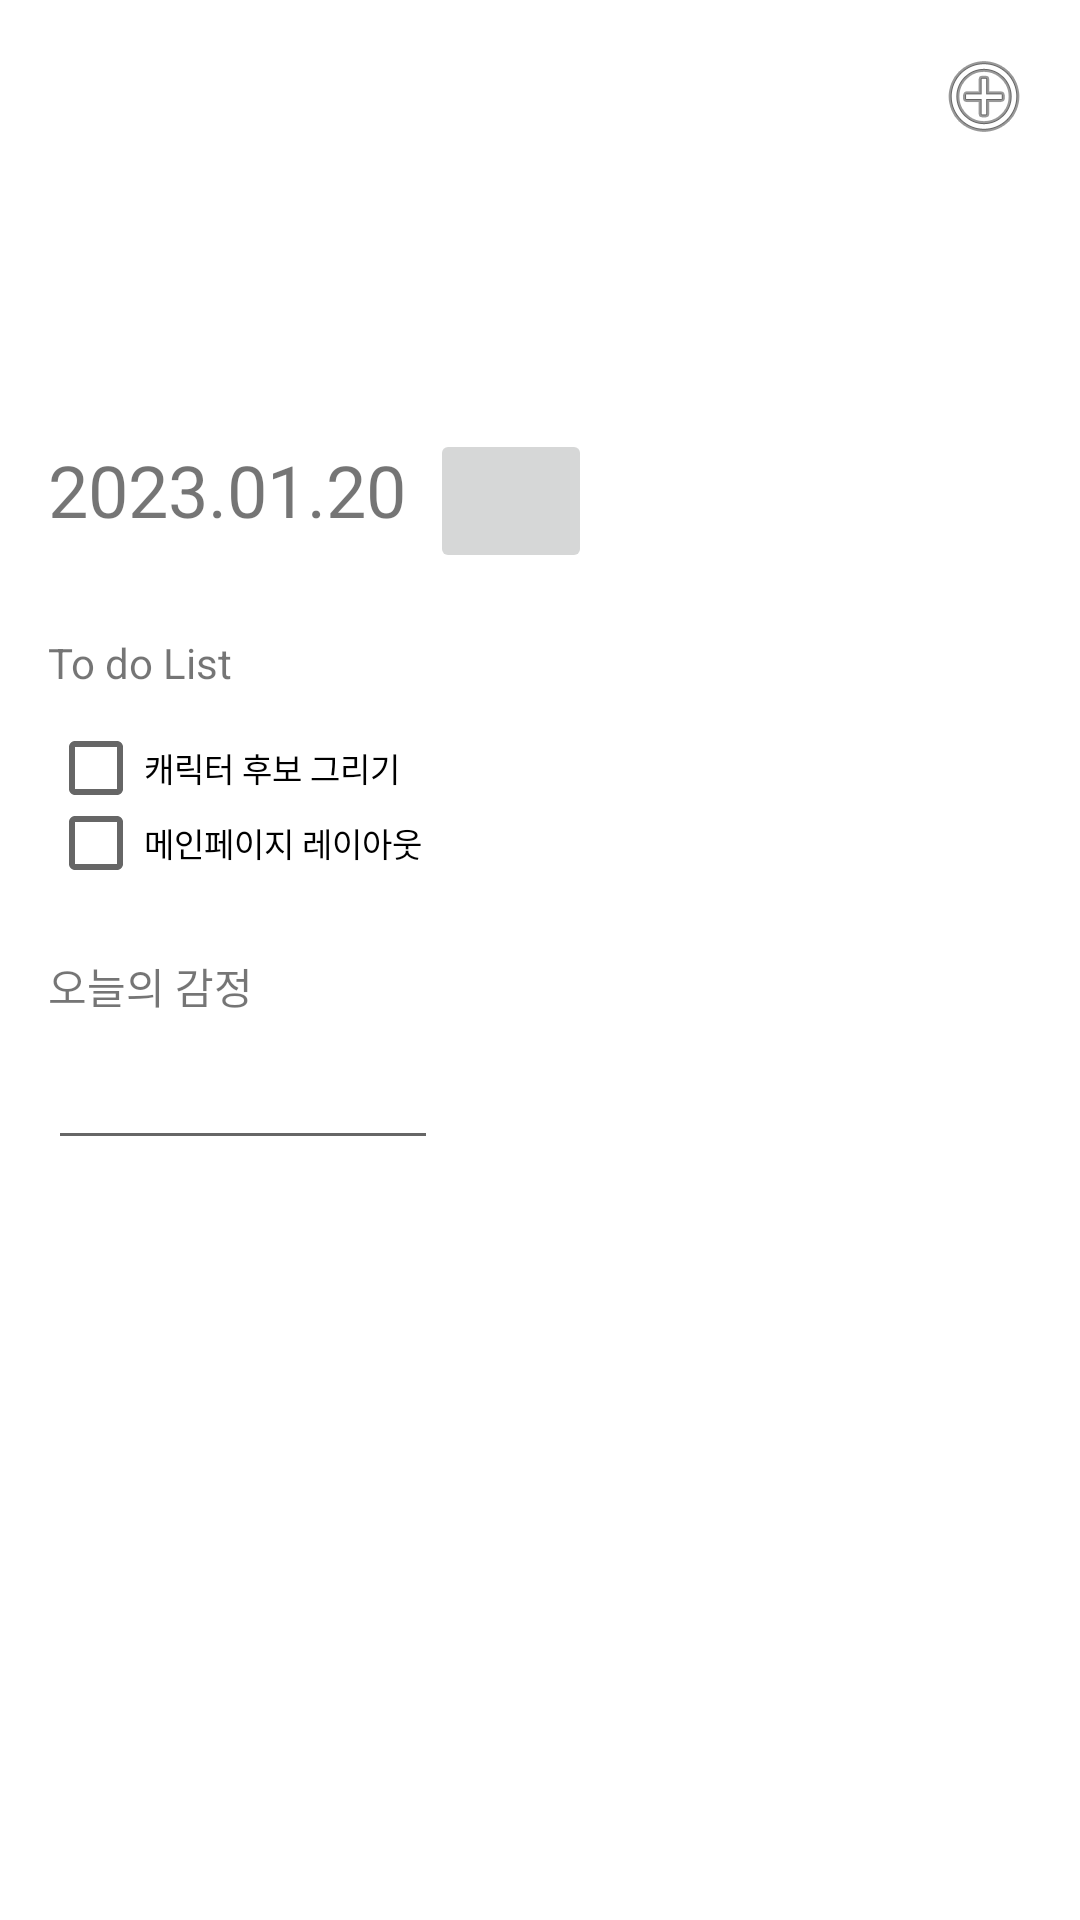

Icons on this 1080*1920 Android screen, each with its box as (x1, y1, x2, y2):
add: (948, 61, 1020, 132)
